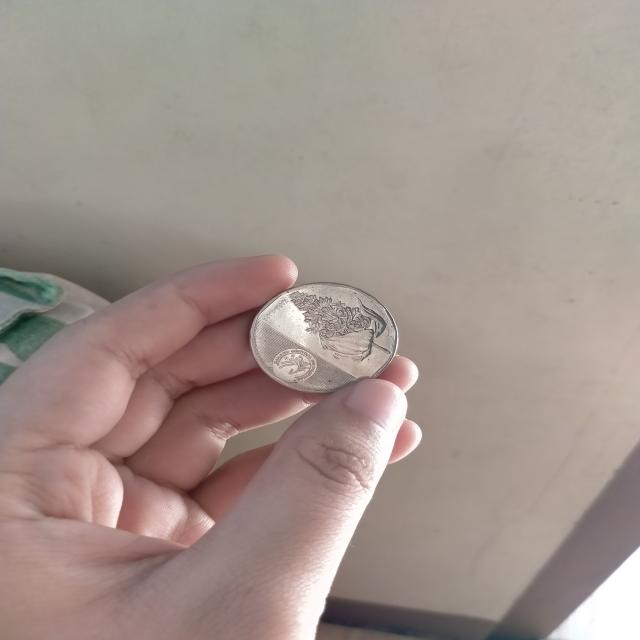10_New_Back: (284, 286, 404, 366)
